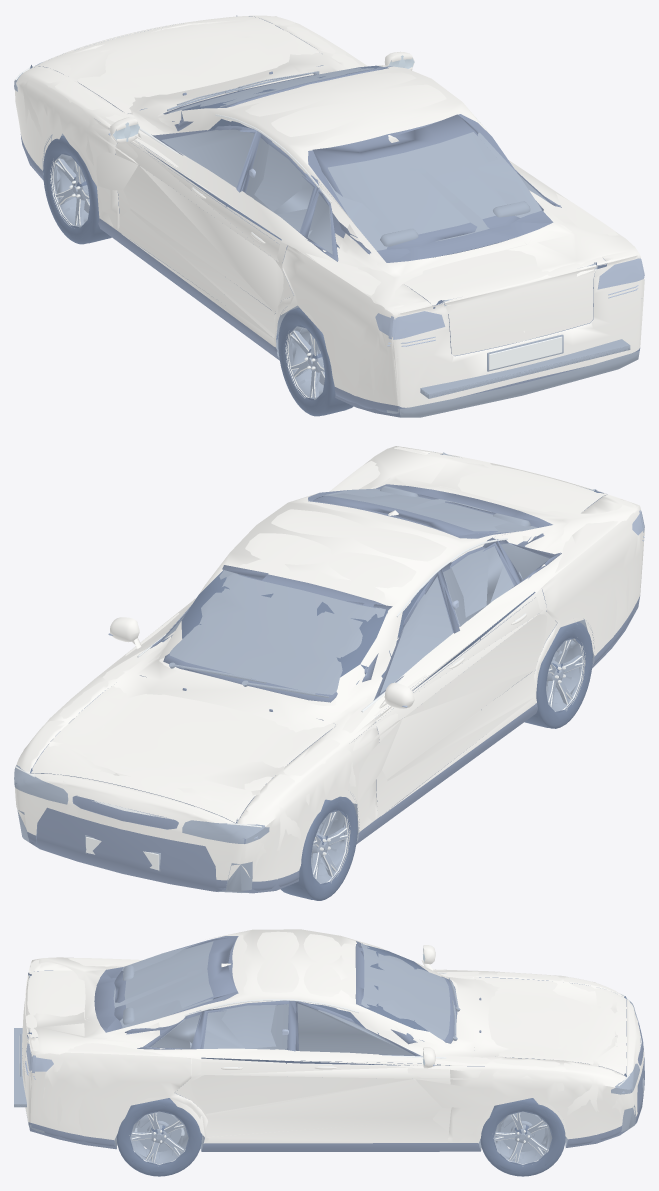
The model's file is saloon.glb.
3 views of the same model, one above another, from view 1: azimuth 30°, elevation 25°; view 2: azimuth 150°, elevation 25°; view 3: azimuth 270°, elevation 25° (orthographic). The views are drawn at different scales.
Parts seen in each view (by area): view 1: near_body_mesh, street_body_mesh, near_body_glass_mesh, far_body_mesh, street_door_mesh, near_wheel_rl_mesh, near_wheel_fl_mesh, near_door_glass_mesh, near_door_mesh, far_body_glass_mesh, street_body_glass_mesh; view 2: near_body_mesh, street_body_mesh, near_body_glass_mesh, far_body_mesh, street_door_mesh, near_wheel_rl_mesh, near_wheel_fl_mesh, near_door_glass_mesh, near_door_mesh, far_body_glass_mesh, street_body_glass_mesh; view 3: near_body_mesh, street_body_mesh, far_body_mesh, near_body_glass_mesh, near_wheel_fr_mesh, near_wheel_rr_mesh, street_body_glass_mesh, far_body_glass_mesh.
Part boxes in pixels (x1=…): near_body_mesh: x1=14, y1=15, x2=644, y2=414; street_body_mesh: x1=15, y1=16, x2=644, y2=417; near_body_glass_mesh: x1=170, y1=67, x2=547, y2=251; far_body_mesh: x1=29, y1=16, x2=643, y2=406; street_door_mesh: x1=93, y1=118, x2=276, y2=338; near_wheel_rl_mesh: x1=278, y1=307, x2=353, y2=416; near_wheel_fl_mesh: x1=43, y1=135, x2=111, y2=244; near_door_glass_mesh: x1=161, y1=129, x2=254, y2=187; near_door_mesh: x1=108, y1=117, x2=260, y2=289; far_body_glass_mesh: x1=221, y1=105, x2=313, y2=214; street_body_glass_mesh: x1=219, y1=67, x2=383, y2=254; near_body_mesh: x1=14, y1=446, x2=644, y2=892; street_body_mesh: x1=15, y1=446, x2=644, y2=899; near_body_glass_mesh: x1=161, y1=493, x2=530, y2=694; far_body_mesh: x1=16, y1=453, x2=644, y2=891; street_door_mesh: x1=349, y1=569, x2=538, y2=817; near_wheel_rl_mesh: x1=524, y1=621, x2=592, y2=728; near_wheel_fl_mesh: x1=280, y1=796, x2=357, y2=900; near_door_glass_mesh: x1=380, y1=577, x2=452, y2=693; near_door_mesh: x1=361, y1=576, x2=480, y2=810; far_body_glass_mesh: x1=443, y1=546, x2=503, y2=626; street_body_glass_mesh: x1=166, y1=543, x2=549, y2=668; near_body_mesh: x1=14, y1=931, x2=643, y2=1146; street_body_mesh: x1=14, y1=929, x2=644, y2=1173; far_body_mesh: x1=27, y1=966, x2=635, y2=1163; near_body_glass_mesh: x1=124, y1=941, x2=450, y2=1048; near_wheel_fr_mesh: x1=480, y1=1098, x2=565, y2=1176; near_wheel_rr_mesh: x1=116, y1=1098, x2=201, y2=1176; street_body_glass_mesh: x1=151, y1=943, x2=414, y2=1055; far_body_glass_mesh: x1=206, y1=1004, x2=364, y2=1049.
Size of the model in its own units: 2.1 by 1.45 by 4.91.
